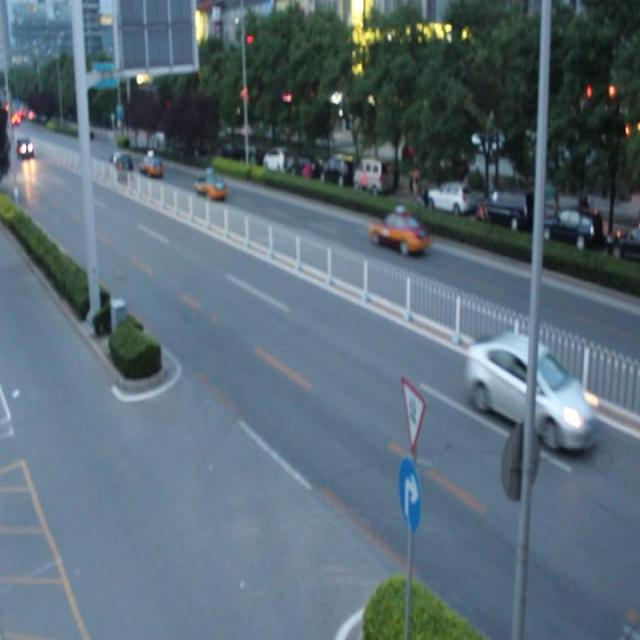car: (467, 335, 592, 451), (368, 215, 426, 251), (193, 175, 226, 196), (108, 153, 132, 179), (139, 155, 163, 177)
